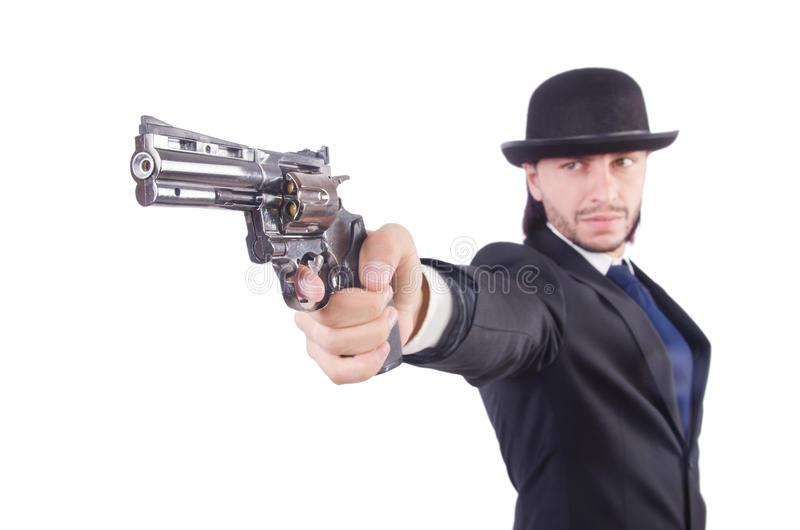criminal: (123, 64, 715, 530)
weapon: (123, 110, 406, 378)
